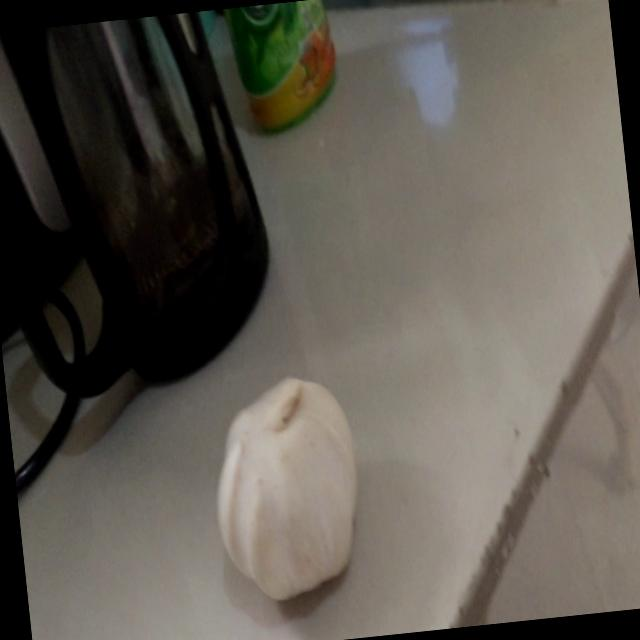bawang: (200, 368, 374, 612)
